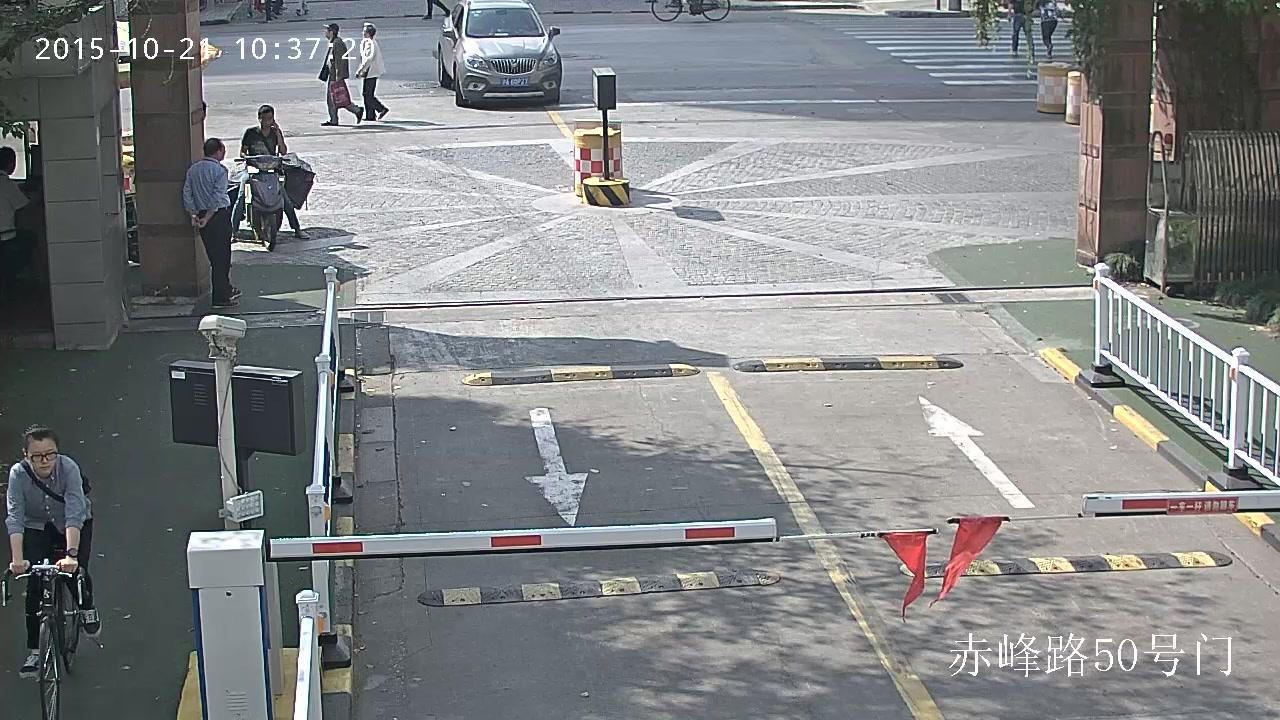face: (28, 438, 56, 475), (259, 111, 274, 127), (11, 156, 16, 174), (220, 143, 226, 157), (361, 26, 367, 37), (325, 27, 330, 37)
